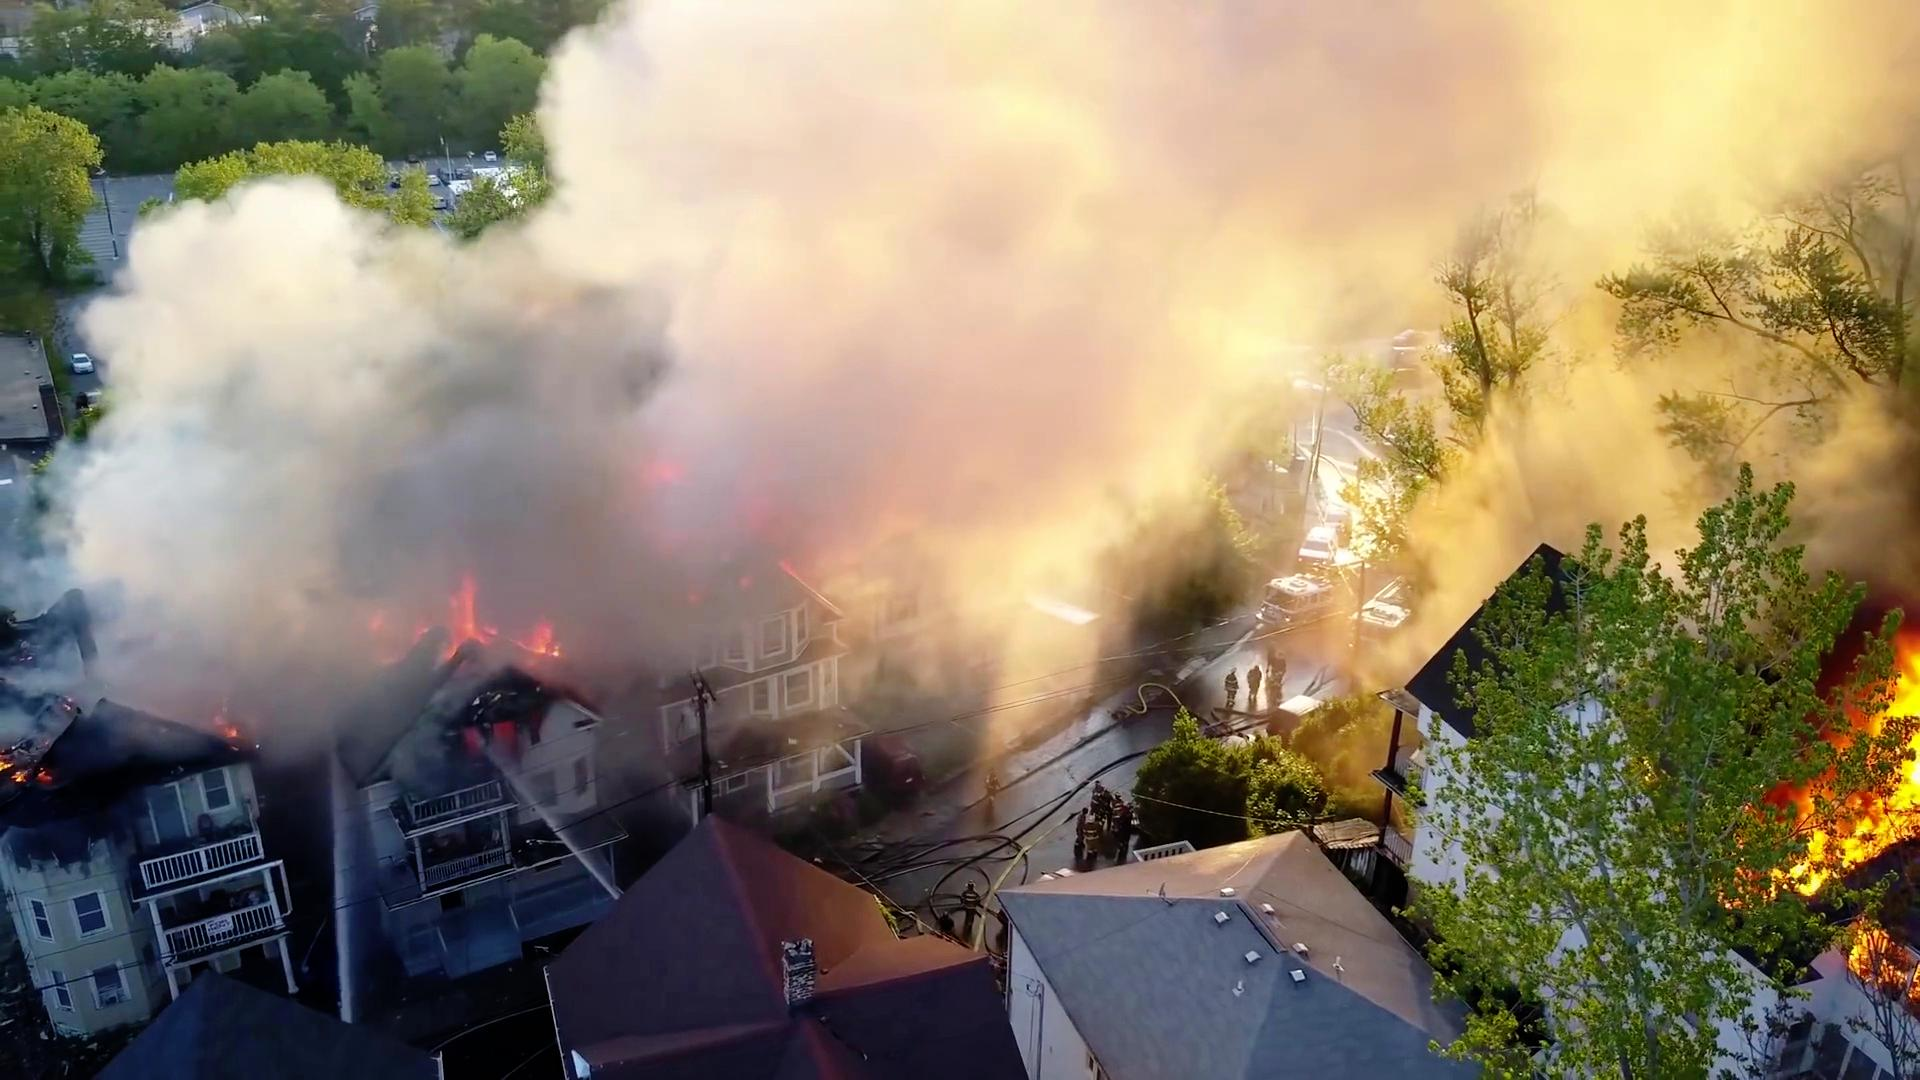fire: (1766, 605, 1920, 914)
smoke: (133, 218, 996, 653), (666, 3, 1415, 336)
